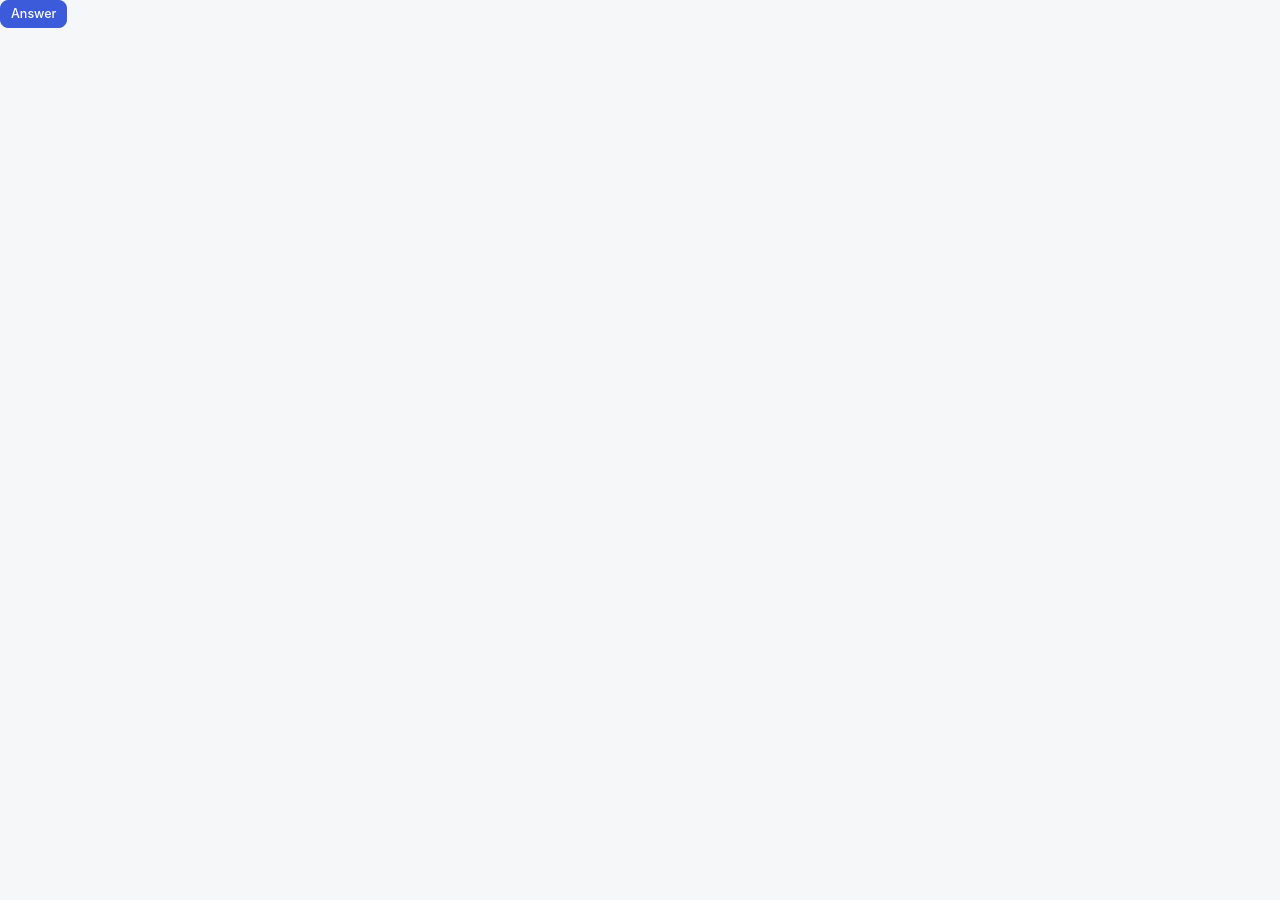
the answer dialog › moves between options with the arrow keys and sends a note
Later steps or results of the test are not shown.
Click the button with aria-label "Answer codex on RCP-17" at {"x": 34, "y": 14}, box x1=0 y1=0 x2=68 y2=28
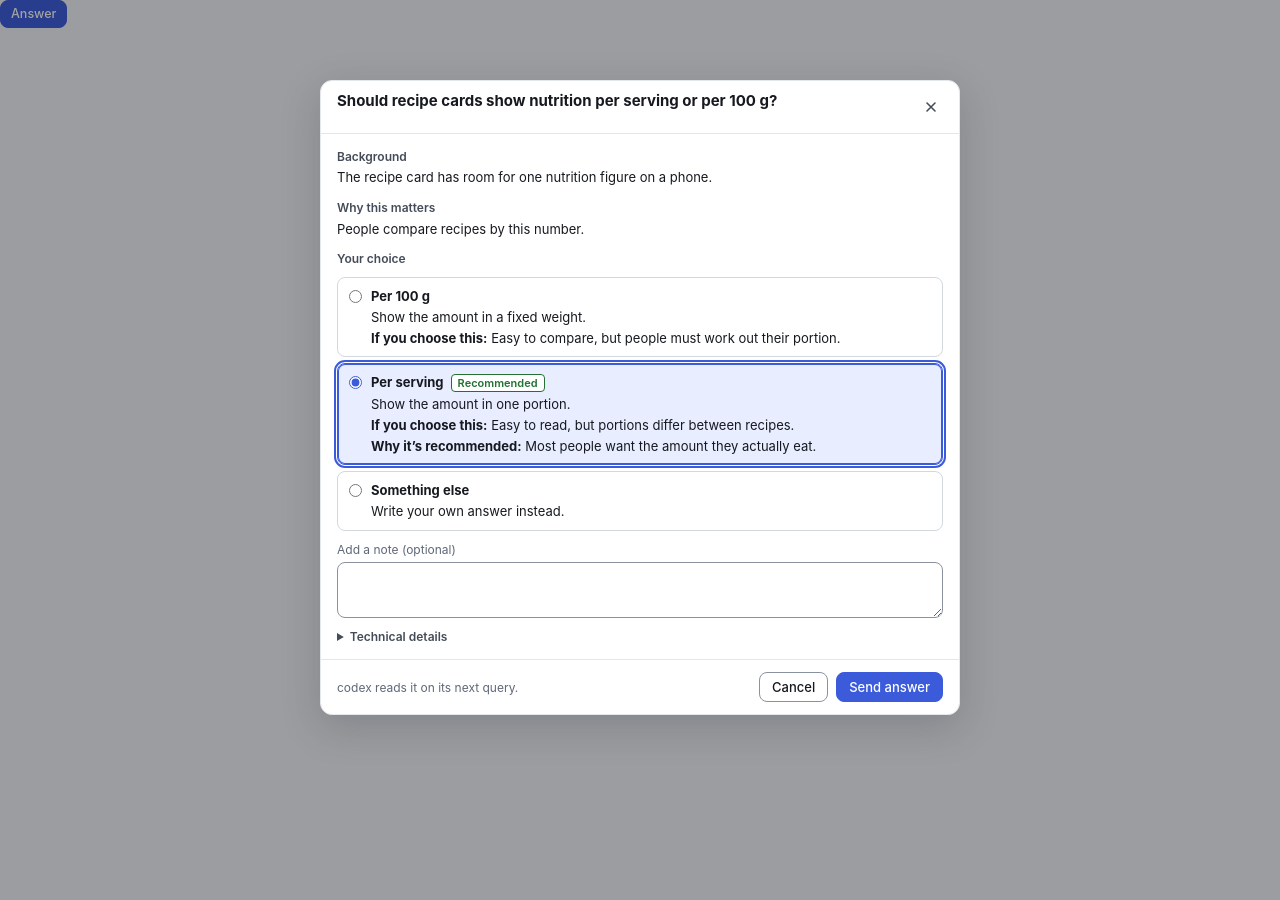
Press Arrowup
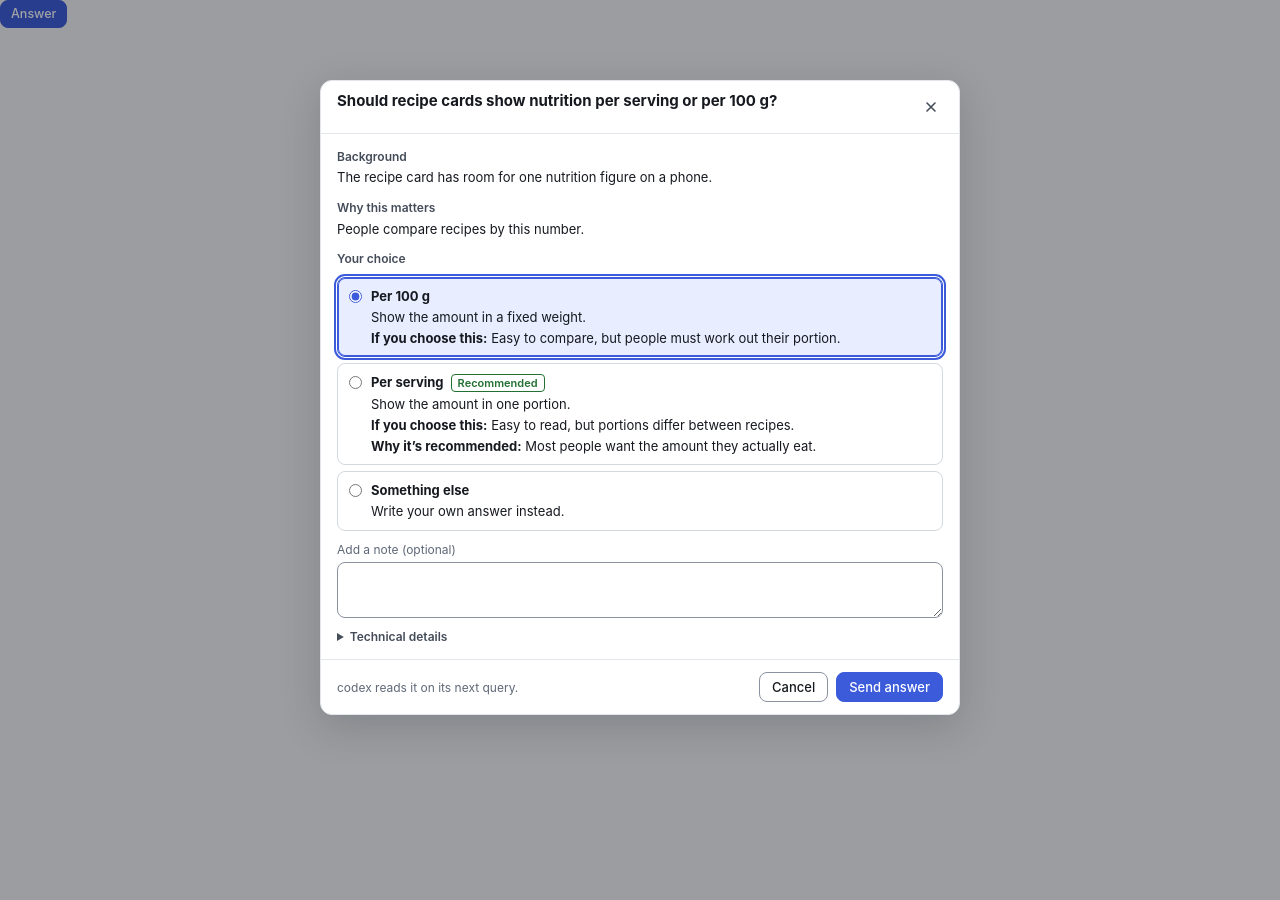
Expected: the radio button labelled "Per 100 g" is checked, x1=349 y1=290 x2=362 y2=303
